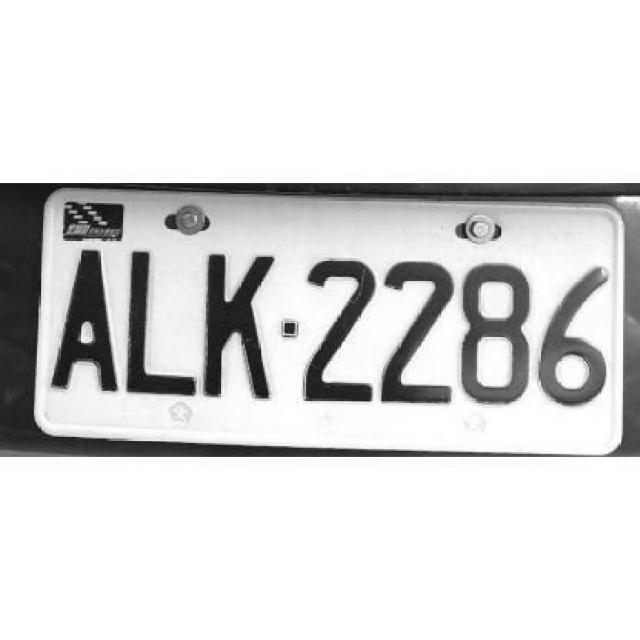-: (278, 317, 300, 341)
2: (376, 254, 456, 412), (297, 251, 374, 411)
6: (535, 262, 611, 408)
8: (454, 255, 534, 411)
A: (48, 238, 120, 402)
K: (200, 246, 275, 403)
L: (121, 248, 194, 395)
